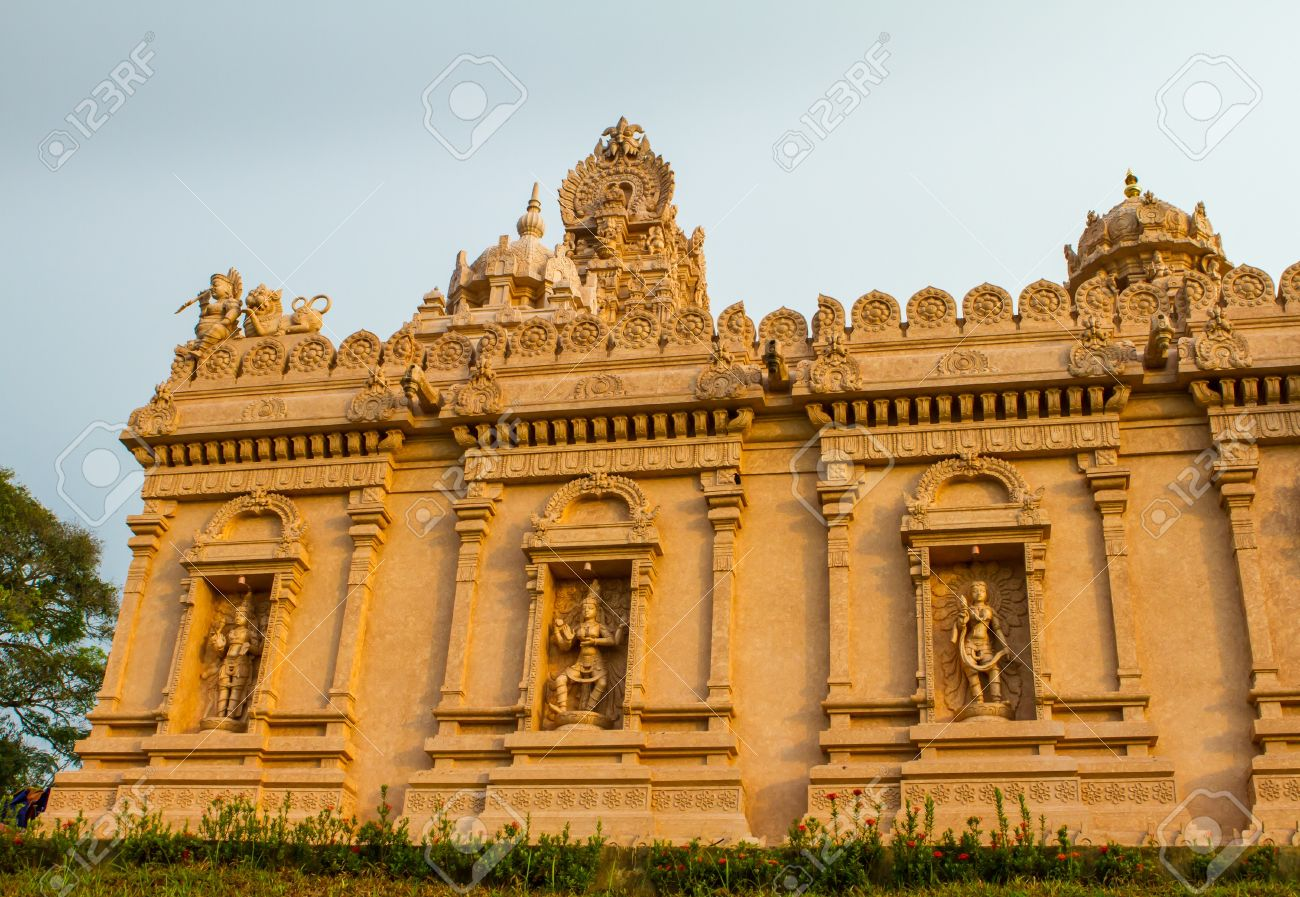Hindu Temple: (108, 117, 1283, 814)
